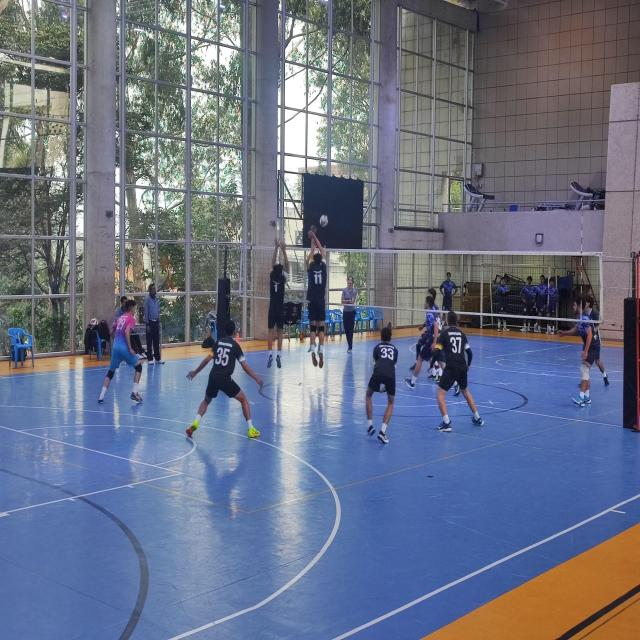volleyball: (320, 215, 328, 228), (90, 318, 98, 328)
